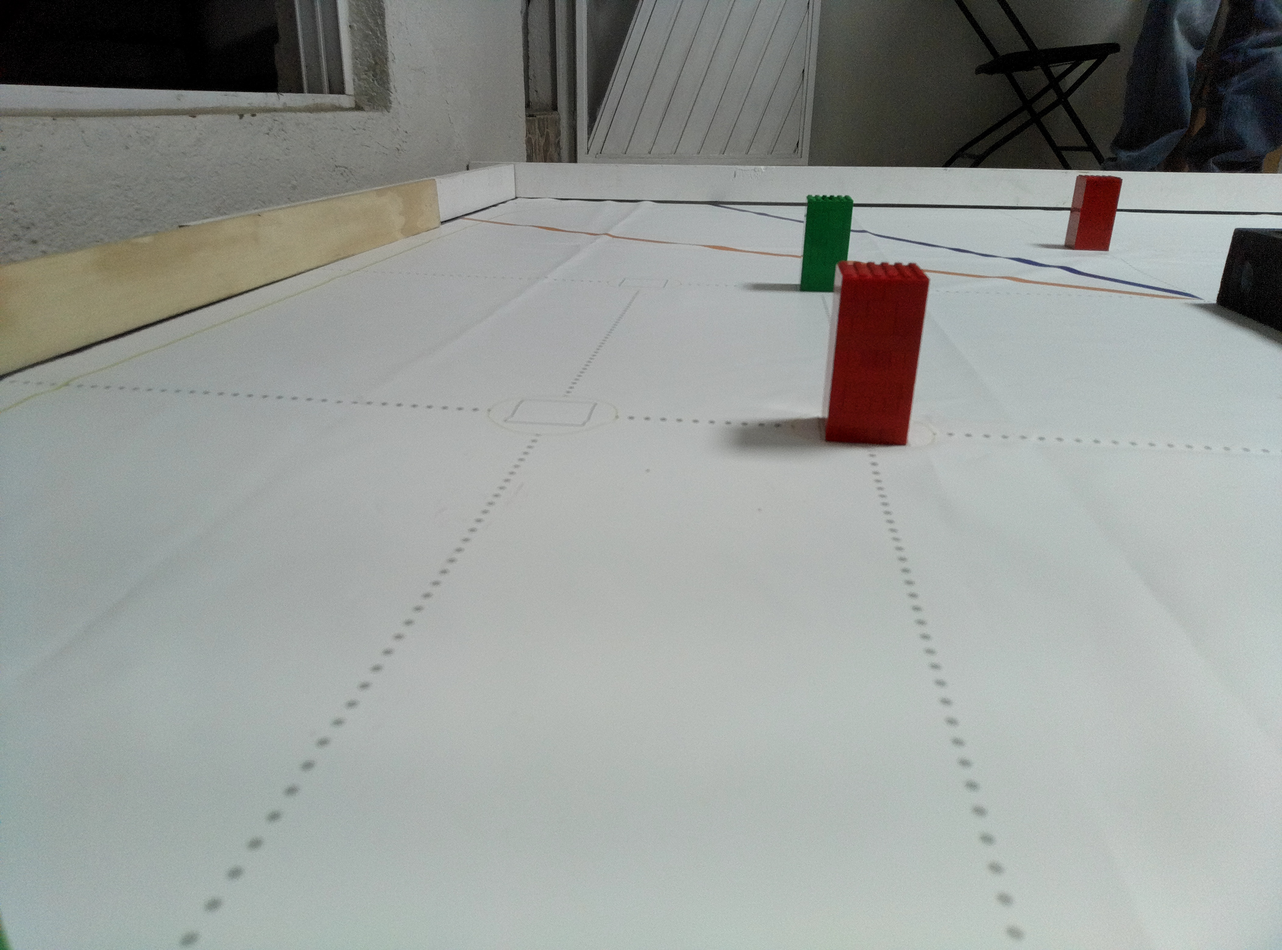greenbox: (798, 193, 855, 292)
redbox: (818, 260, 932, 448), (1064, 173, 1125, 252)
